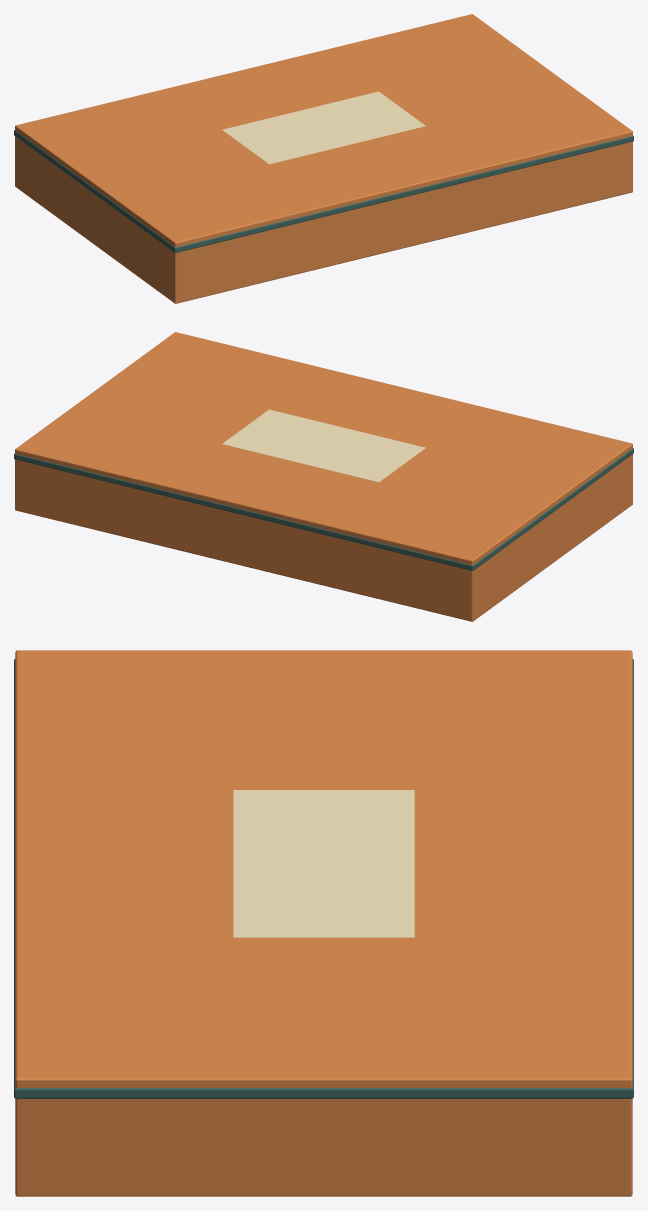
The model's file is casebox.glb.
3 views of the same model, one above another, from view 1: azimuth 30°, elevation 25°; view 2: azimuth 150°, elevation 25°; view 3: azimuth 270°, elevation 25° (orthographic). The views are drawn at different scales.
Visible parts, largest first — view 1: casebox; view 2: casebox; view 3: casebox.
Part boxes in pixels (left/top/right/bottom): casebox: left=14, top=14, right=633, bottom=303; casebox: left=14, top=332, right=633, bottom=621; casebox: left=14, top=650, right=633, bottom=1196.
Size of the model in its own units: 0.1404 by 0.0181 by 0.0854.
